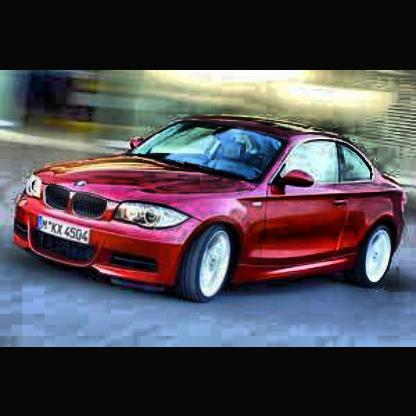BMW 1 Series Coupe 2012: (8, 101, 410, 340)
